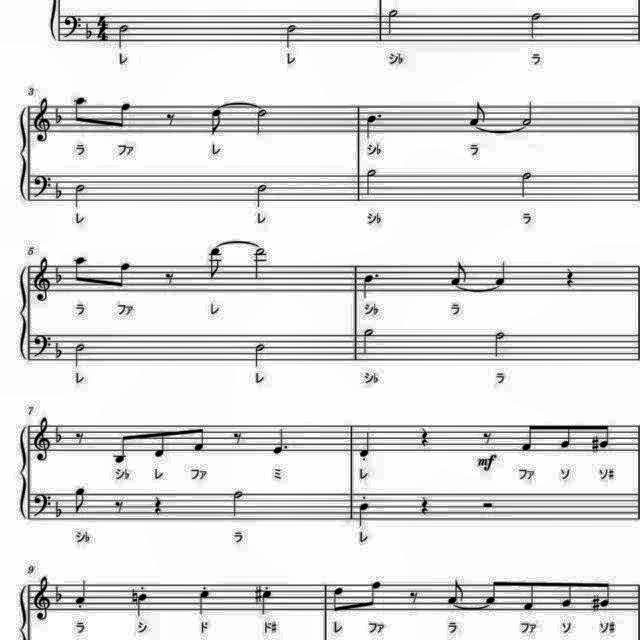Bass-clef: (31, 172, 54, 200), (31, 489, 53, 518), (62, 13, 84, 42), (31, 332, 53, 360)
Bemol: (52, 262, 66, 290), (52, 579, 66, 605), (53, 102, 67, 126), (54, 177, 68, 200), (53, 422, 67, 444), (54, 500, 66, 522), (84, 20, 96, 40), (54, 340, 66, 360)
Diez: (588, 592, 600, 614), (588, 434, 600, 456)
Eighth-note: (108, 428, 132, 466), (360, 576, 384, 612), (114, 96, 138, 130), (206, 244, 226, 284), (444, 576, 468, 608), (518, 420, 540, 454), (70, 252, 90, 288), (114, 260, 136, 292), (464, 99, 488, 128), (150, 428, 170, 462), (70, 93, 90, 127), (522, 578, 542, 612), (206, 107, 226, 139), (188, 422, 208, 454), (484, 574, 504, 606), (448, 260, 470, 288), (556, 420, 576, 450), (558, 579, 576, 611), (331, 584, 349, 616), (597, 580, 615, 612), (595, 421, 613, 452), (71, 486, 89, 516)
Eighth-rest: (162, 107, 182, 129), (478, 427, 497, 449), (162, 268, 180, 290), (230, 428, 247, 449), (406, 586, 422, 608), (72, 428, 88, 448), (110, 495, 126, 515)
Half-note: (518, 166, 538, 202), (249, 245, 267, 283), (358, 326, 378, 360), (526, 9, 546, 43), (360, 168, 380, 202), (280, 18, 300, 50), (384, 8, 404, 40), (490, 328, 510, 360), (254, 182, 274, 212), (70, 181, 90, 211), (252, 340, 272, 370), (230, 488, 248, 520), (251, 105, 269, 136), (520, 98, 538, 128), (71, 339, 89, 369), (114, 22, 130, 50)
Half-rest: (479, 498, 497, 510)
Quarter-dot: (362, 111, 386, 143), (270, 424, 292, 458), (358, 270, 382, 300)
Quarter-note: (355, 428, 375, 460), (258, 584, 278, 616), (73, 578, 91, 610), (196, 587, 214, 617), (355, 500, 373, 530), (492, 260, 511, 288), (133, 590, 151, 618)
Quarter-rest: (417, 424, 433, 452), (416, 490, 432, 518), (562, 264, 578, 290), (152, 492, 168, 516)
Treble-clef: (29, 413, 51, 463), (29, 255, 51, 305), (30, 576, 50, 626), (32, 95, 52, 145)
